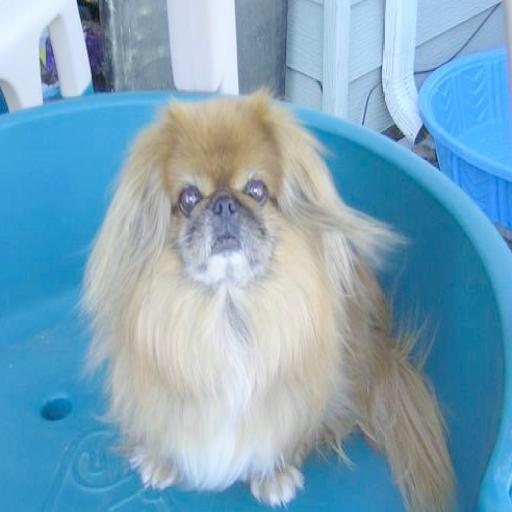dog_face: (91, 104, 393, 319)
